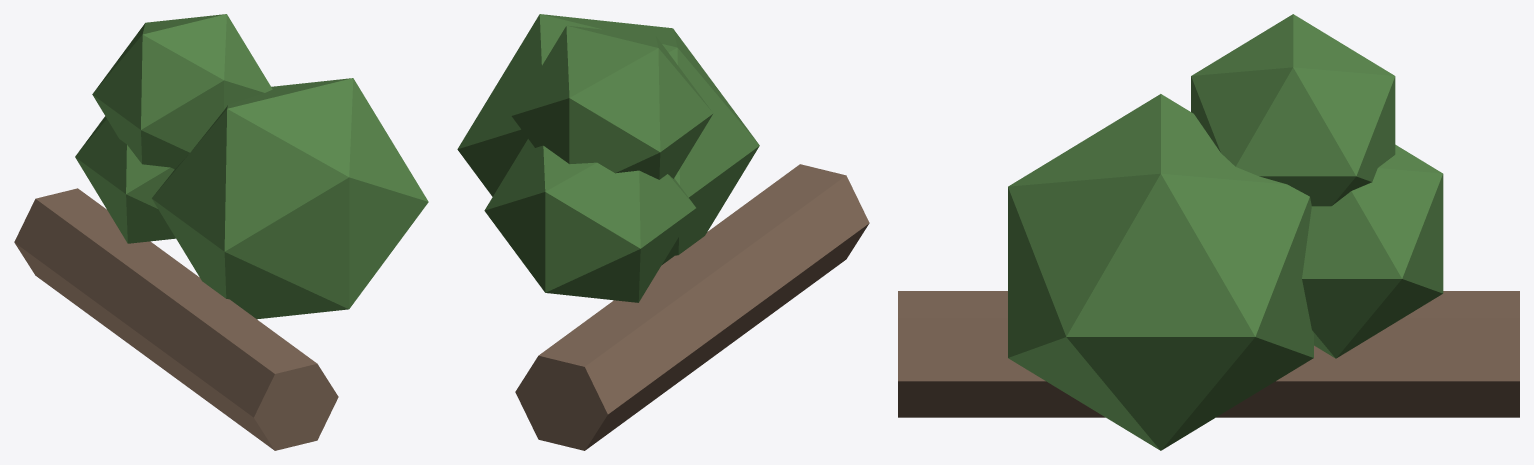
Rendered from tree_s6_06.glb.
The picture shows the model from 3 angles, left to right: view 1: azimuth 30°, elevation 25°; view 2: azimuth 150°, elevation 25°; view 3: azimuth 270°, elevation 25°; orthographic projection. The views are drawn at different scales.
Visible parts, largest first — view 1: geometry_0; view 2: geometry_0; view 3: geometry_0.
Part boxes in pixels (bbox=[...]): geometry_0: bbox=[14, 14, 428, 450]; geometry_0: bbox=[457, 14, 869, 450]; geometry_0: bbox=[898, 14, 1519, 450].
Bounding box in the file's own units: 1.85 × 2.22 × 3.21.
